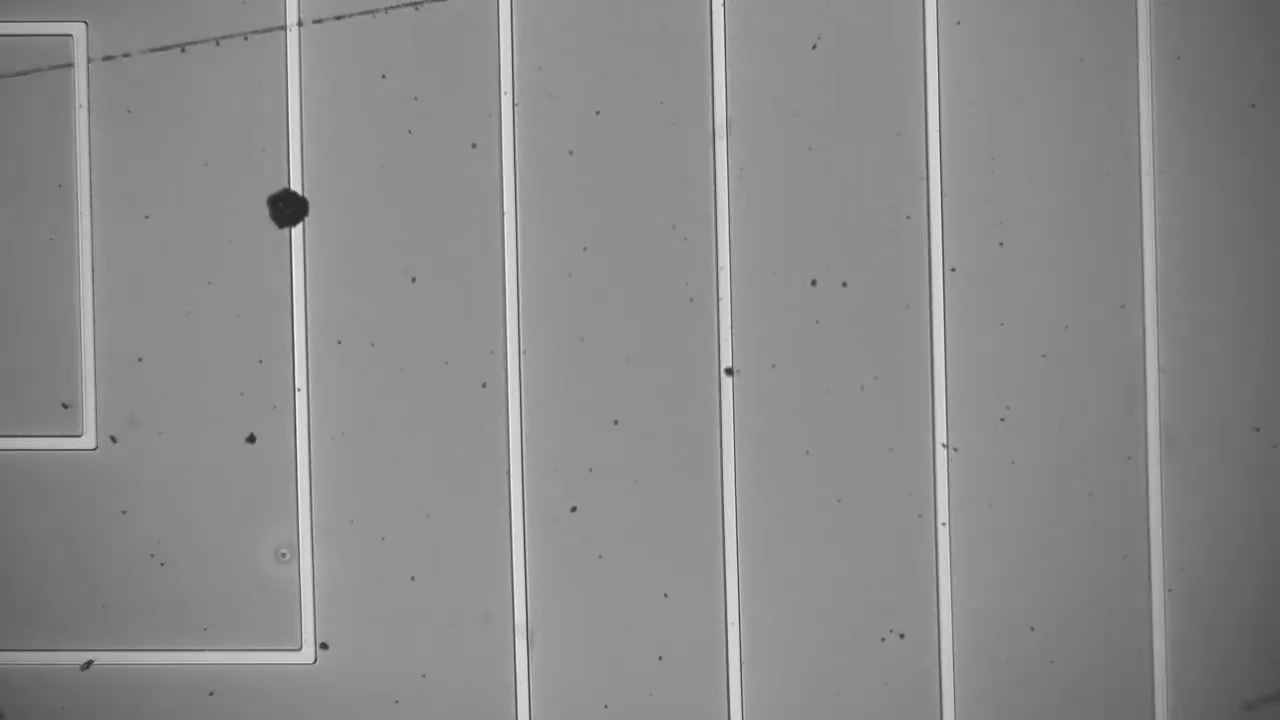scratch: (2, 9, 420, 80)
stains_enbedded: (255, 178, 313, 241), (715, 356, 742, 385)
